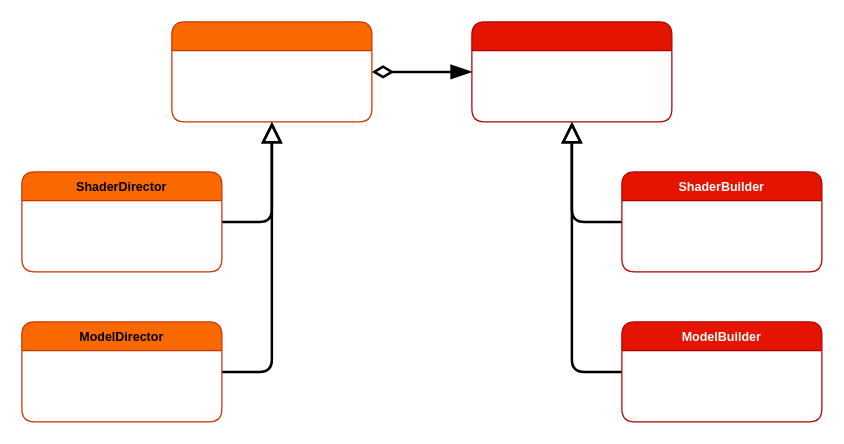
Some shapes in this 844 by 444 pixel diagram are drawn without their labels. The centre of each missing label's shape, as x and y in pixels:
BaseBuilder: point 571,71
BaseDirector: point 271,71
